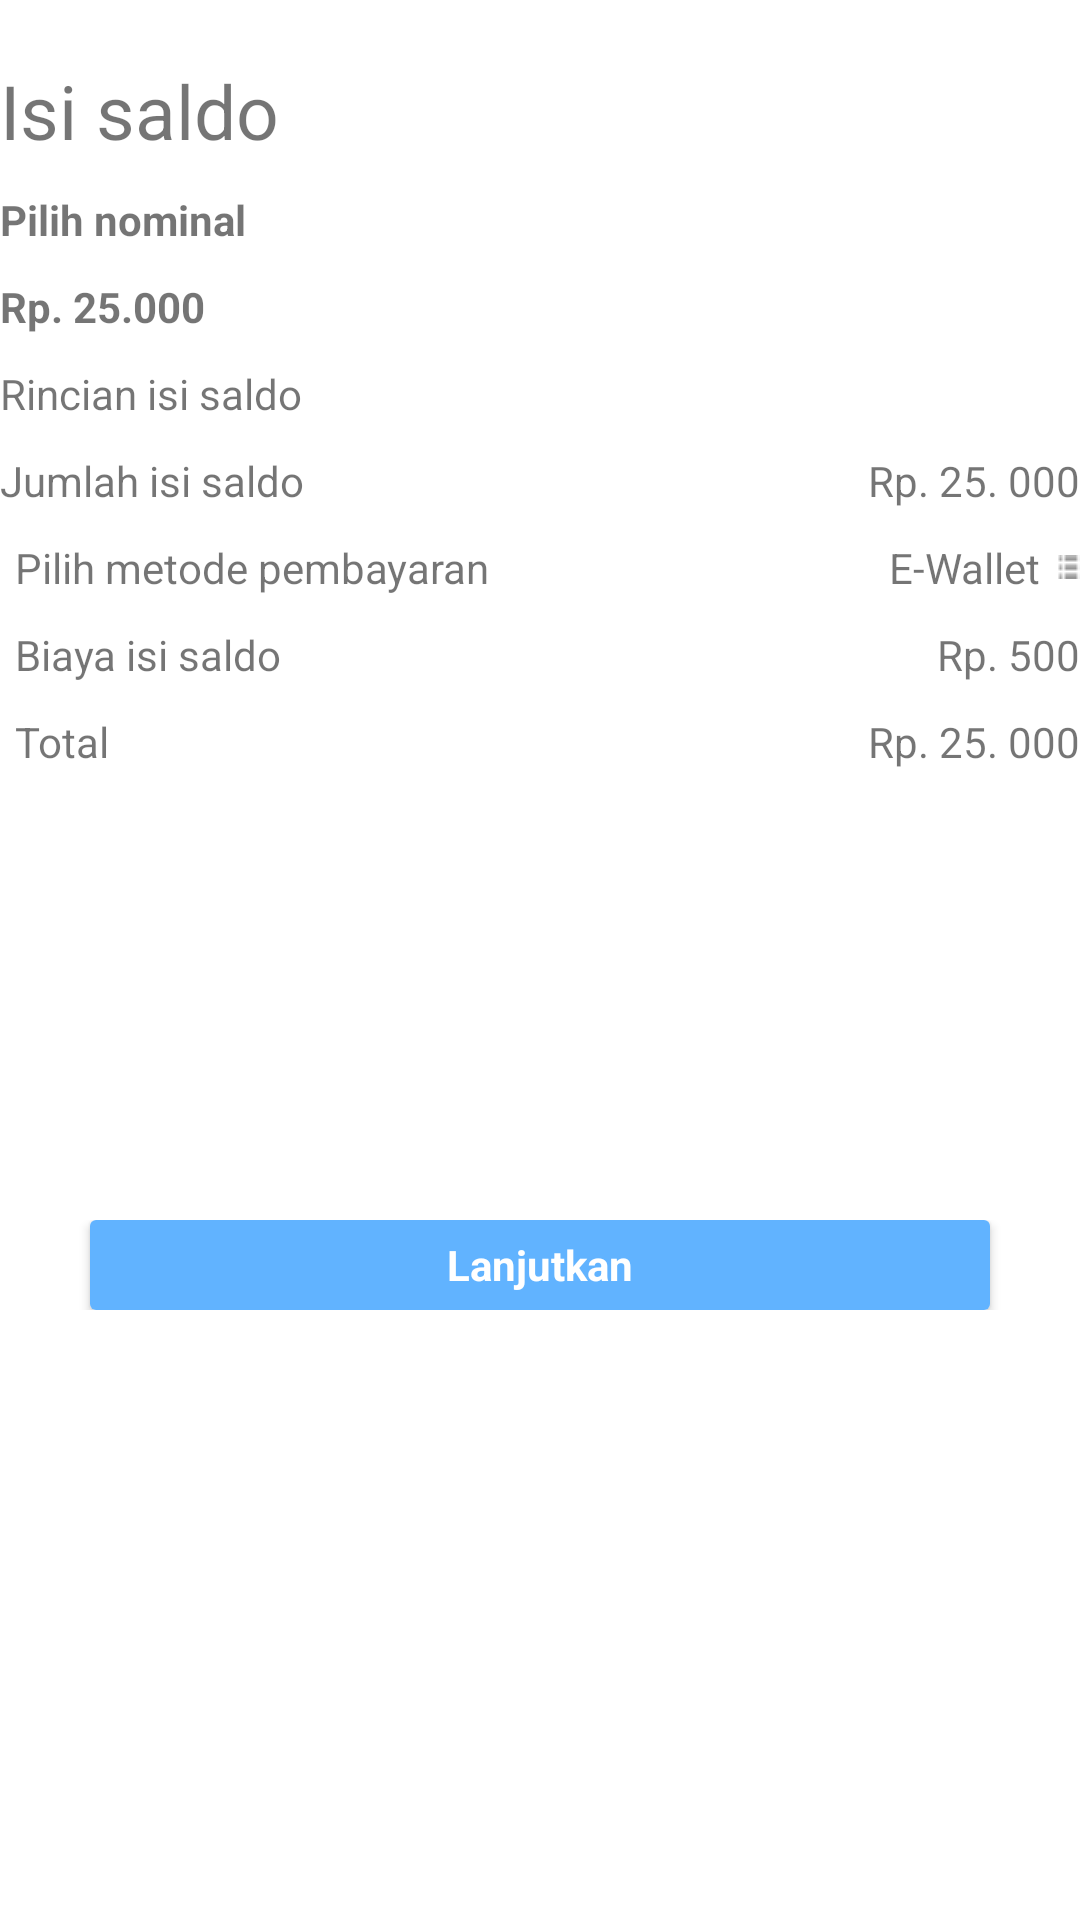

Where icons sit on this 1080 x 1920 app screen, as (x1, y1, x2, y2):
pesanan: (1058, 555, 1078, 579)
